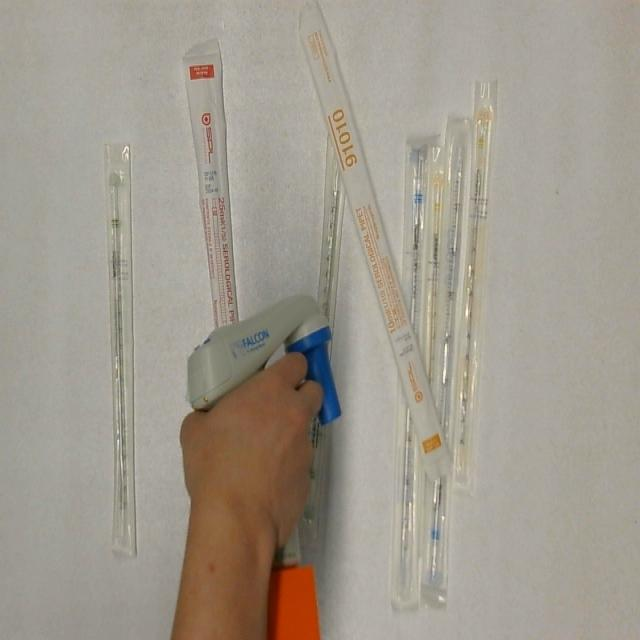Pipette Controller: (186, 290, 342, 640)
Serelogical Pipet 1 mL: (452, 75, 504, 489), (422, 142, 452, 395)
Serelogical Pipet 10 mL: (297, 0, 455, 478)
Serelogical Pipet 2 mL: (102, 138, 143, 560)
Serelogical Pipet 25 mL: (179, 35, 249, 332)
Serelogical Pipet 5 mL: (421, 117, 476, 594), (390, 136, 434, 615)
